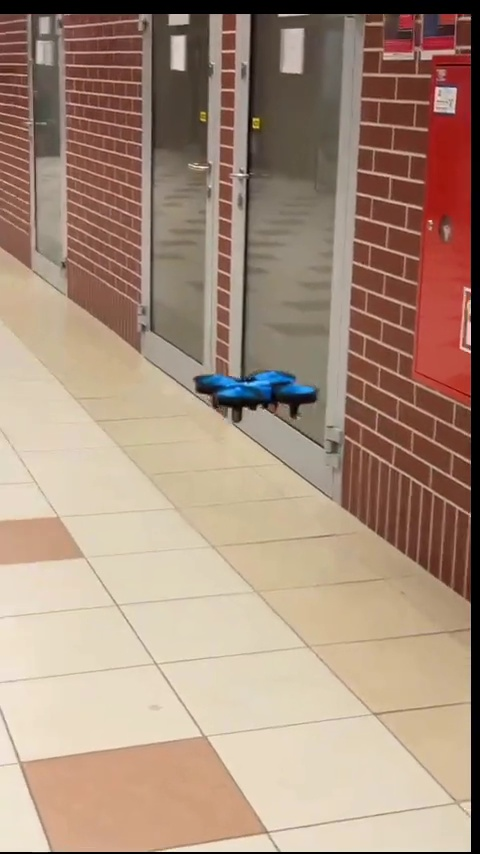drone: (186, 368, 322, 428)
